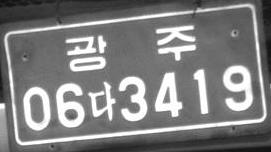0: (21, 85, 51, 132)
1: (185, 68, 216, 115)
3: (117, 74, 148, 122)
4: (153, 72, 184, 117)
6: (55, 82, 86, 129)
9: (221, 63, 254, 111)
광주_D: (64, 23, 196, 72)
다: (88, 80, 116, 122)
